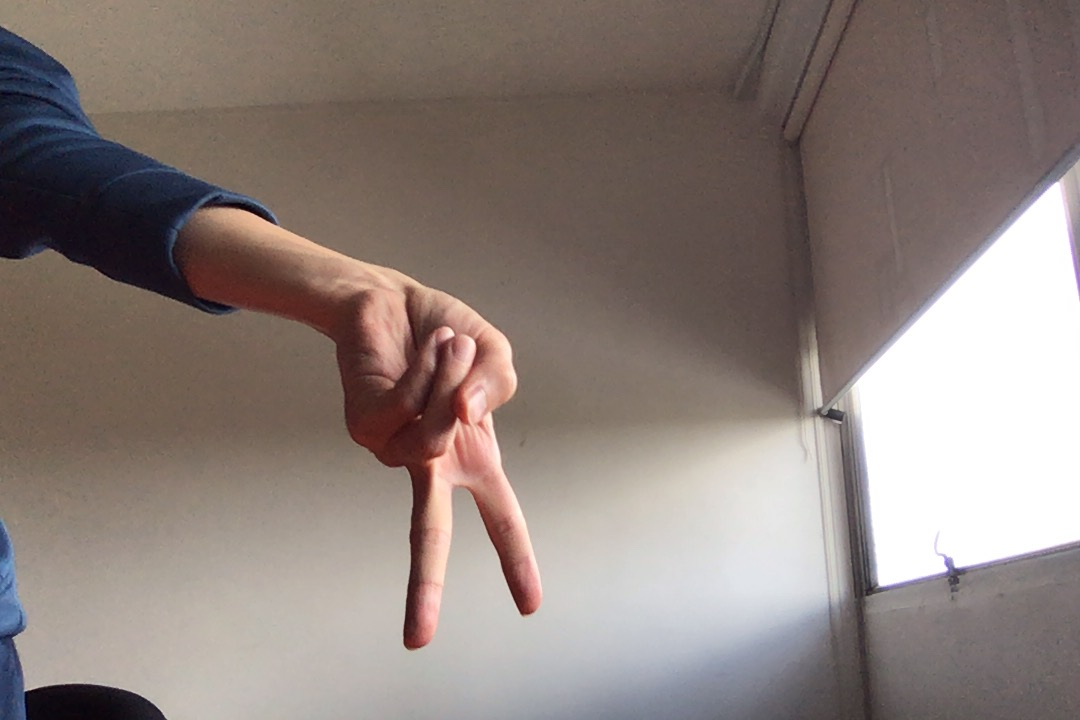peacesign: (328, 253, 557, 660)
